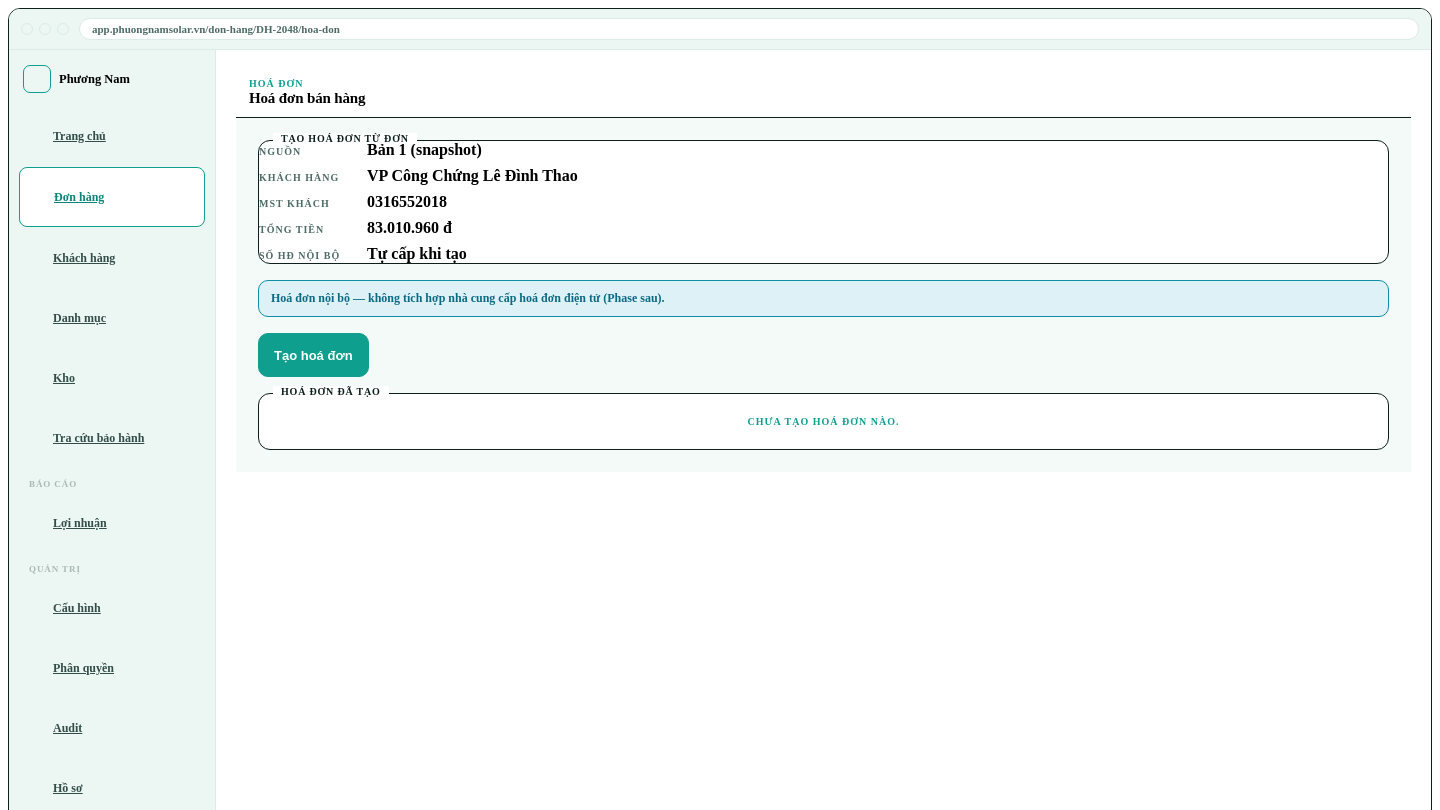
Test case: InvoicesScreen — create › opens the confirm dialog with the consequence
Click the button "Tạo hoá đơn" at (313, 355), box top-left (258, 333), bottom-right (369, 377)
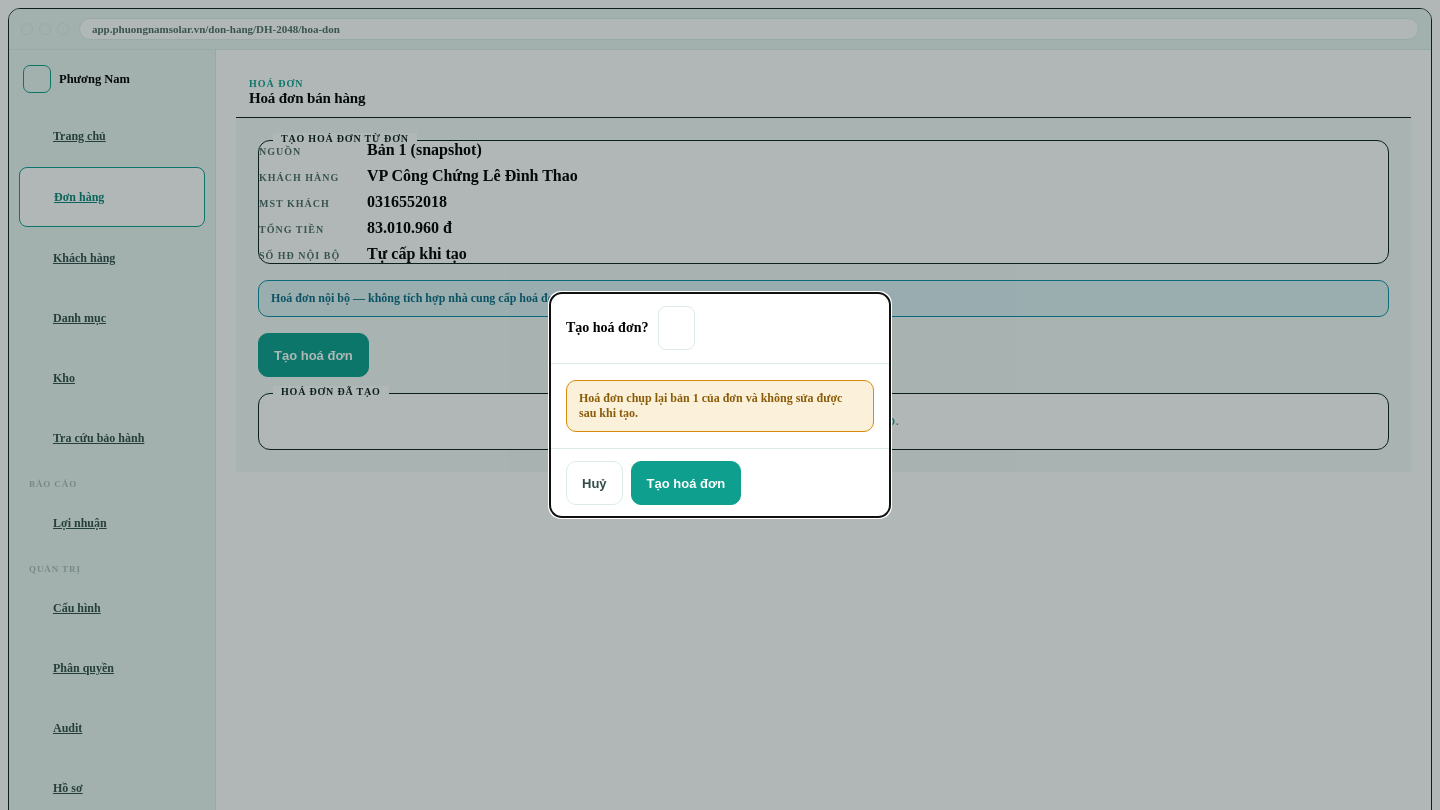
expect the text "Tạo hoá đơn?" is shown: met, box top-left (566, 320), bottom-right (648, 336)
expect the text "Hoá đơn chụp lại bản 1 của đơn và không sửa được sau khi tạo." is shown: met, box top-left (566, 380), bottom-right (874, 432)
